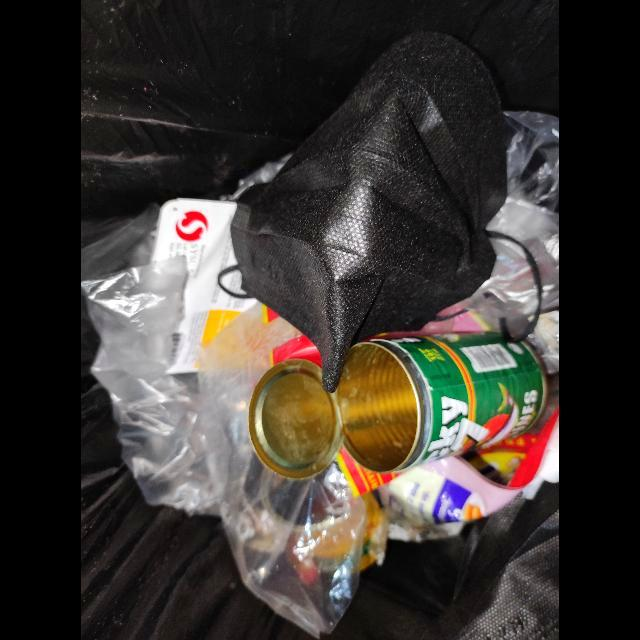aluminum: (248, 332, 546, 481)
plastic_bag: (82, 256, 389, 640)
